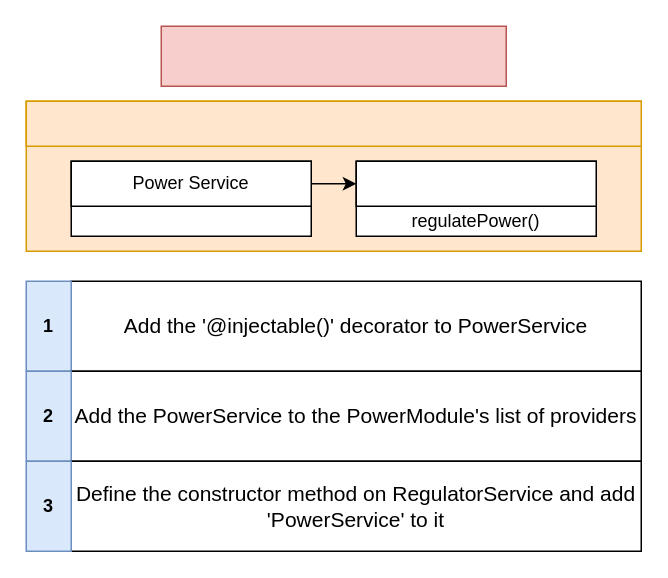
The diagram is 668 pixels wide and 578 high, and some of its shapes have lost their labels. The box of each missing label's shape, as (x1, y1, x2, y2) in pixels:
DI Inside of a module: (160, 25, 506, 86)
Power Module: (25, 100, 641, 146)
Regulator Service: (355, 160, 596, 206)
supplyPower(): (70, 160, 311, 236)
